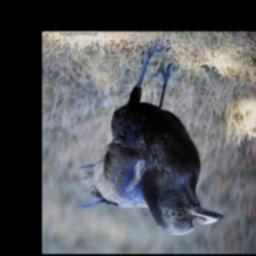Crow: (76, 43, 223, 238)
